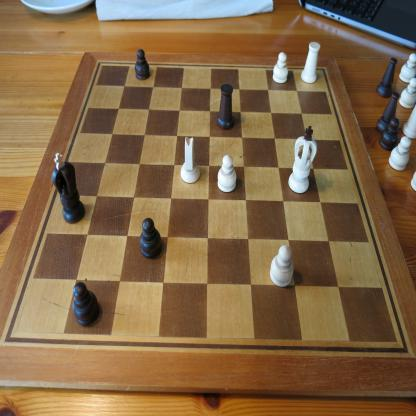black-bishop: (376, 91, 400, 134), (375, 57, 398, 98)
black-king: (52, 152, 86, 224)
black-pawn: (72, 282, 100, 328), (139, 218, 162, 260), (378, 116, 400, 152), (135, 49, 150, 81)
black-rook: (216, 83, 234, 131)
white-king: (288, 125, 317, 194)
white-knight: (180, 136, 200, 184)
white-pawn: (270, 245, 294, 288), (388, 135, 411, 172), (217, 154, 237, 193), (398, 77, 415, 111), (398, 53, 415, 85), (272, 52, 288, 84)
white-rook: (300, 41, 321, 84), (402, 103, 415, 141)
